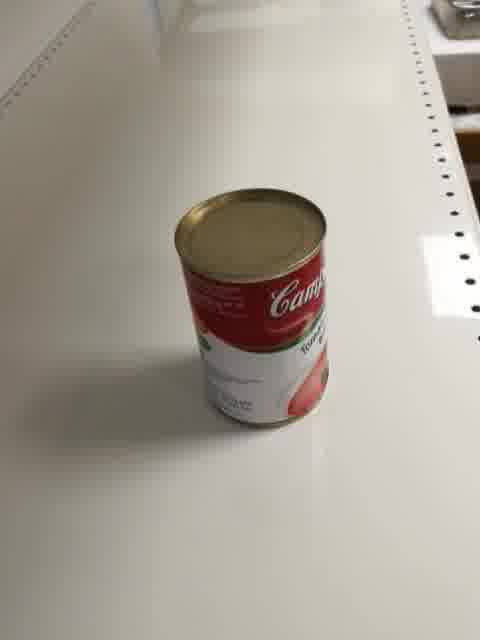tomatosoup: (171, 187, 329, 429)
